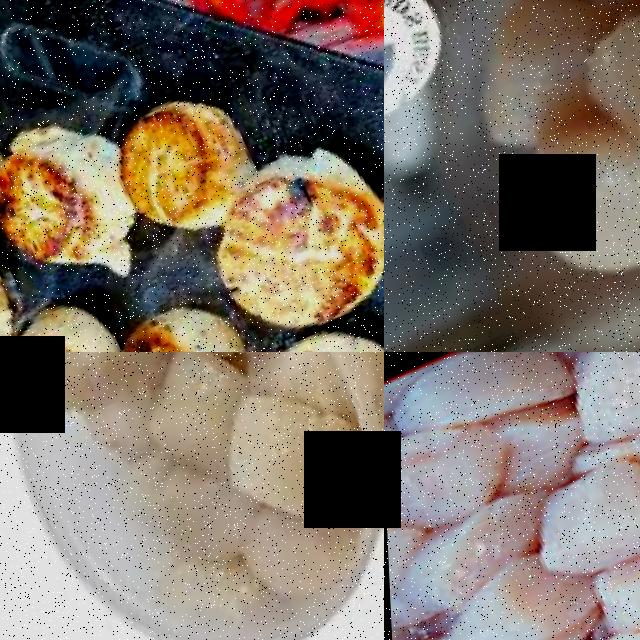sea scallops: (188, 149, 384, 350), (201, 375, 374, 550), (492, 104, 640, 306), (0, 114, 151, 295), (98, 80, 252, 226), (513, 446, 640, 591), (384, 406, 516, 542), (118, 352, 251, 478), (565, 0, 640, 203), (429, 550, 592, 640), (6, 352, 172, 430), (102, 287, 274, 352), (544, 352, 640, 450), (0, 299, 126, 352)
